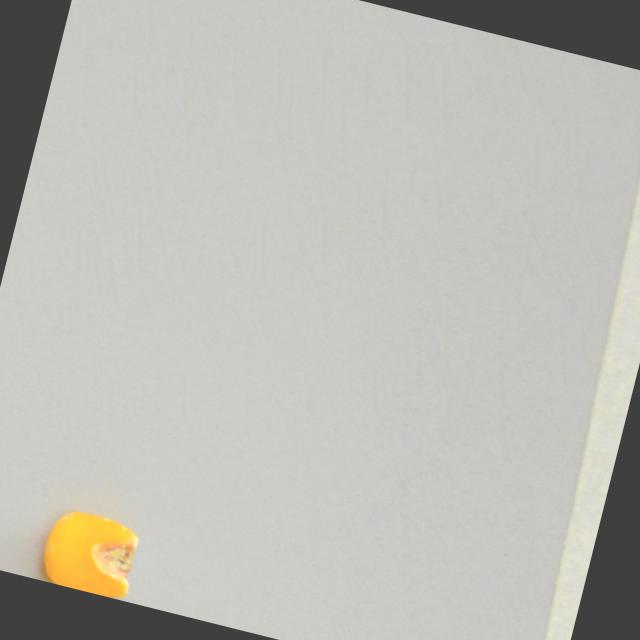dañado: (29, 502, 149, 602)
